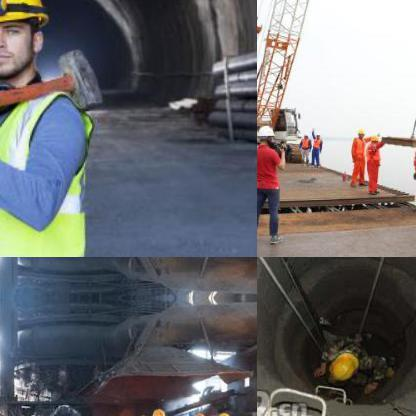Helmet: (0, 0, 54, 85), (326, 350, 358, 382), (257, 120, 277, 145), (366, 131, 380, 145), (352, 124, 364, 138), (150, 406, 165, 415), (190, 409, 209, 415), (215, 409, 232, 415)
